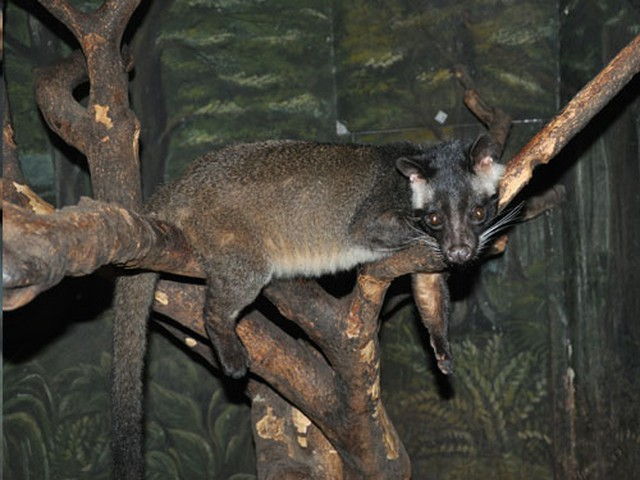civet: (111, 128, 522, 471)
